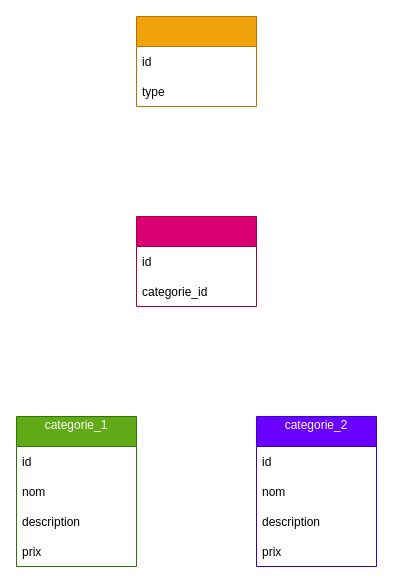
The diagram is 393 pixels wide and 583 high, and some of its shapes have lost their labels. Each missing label, with the box of its shape:
formulaire: (136, 216, 256, 306)
input: (136, 16, 256, 106)
